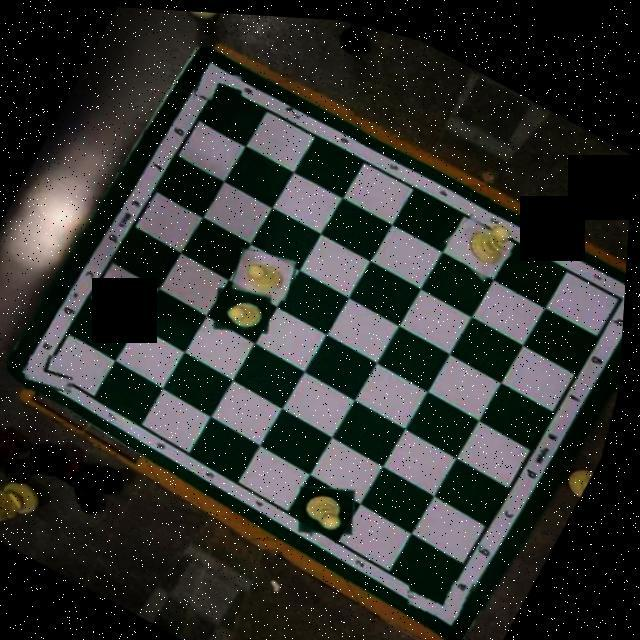chess-table-corners: (409, 562, 486, 620), (23, 344, 84, 396), (190, 60, 247, 104), (595, 266, 629, 308)
